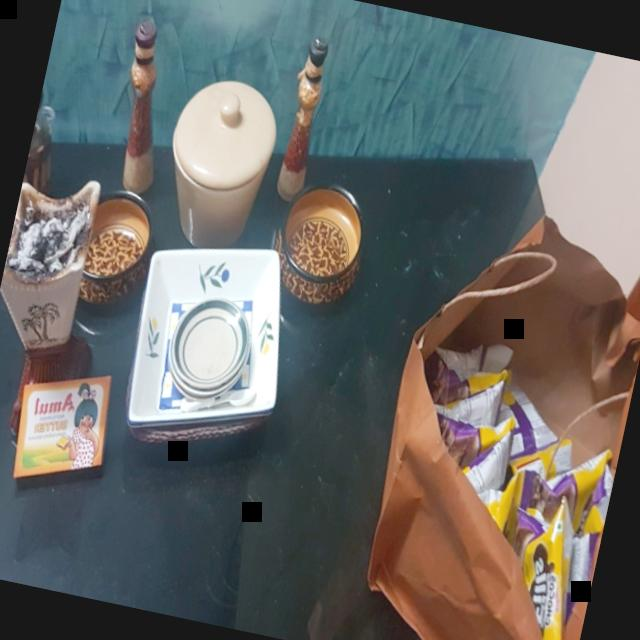butter: (3, 360, 121, 494)
